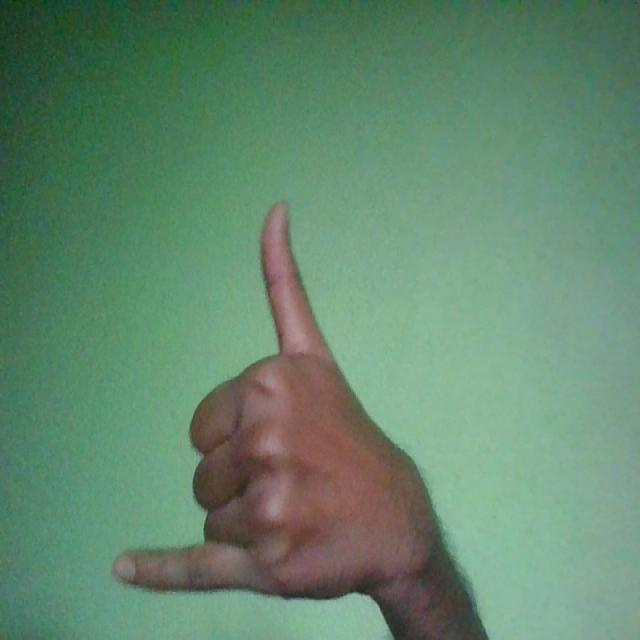Call Me: (111, 200, 447, 603)
